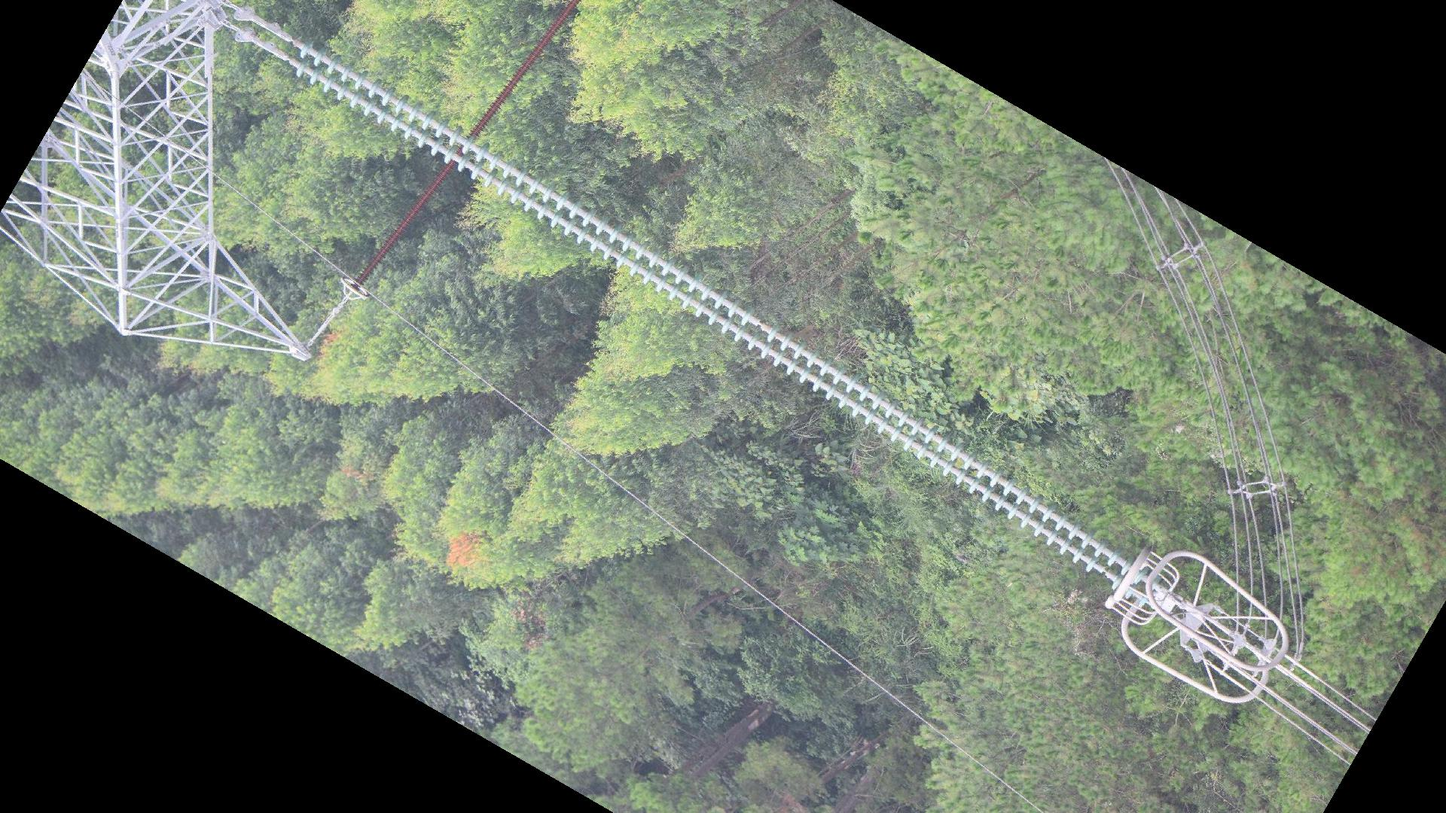insulator: (290, 36, 1165, 612), (350, 1, 583, 288)
insulator_stringdrop: (738, 304, 786, 346), (1082, 553, 1125, 594)
